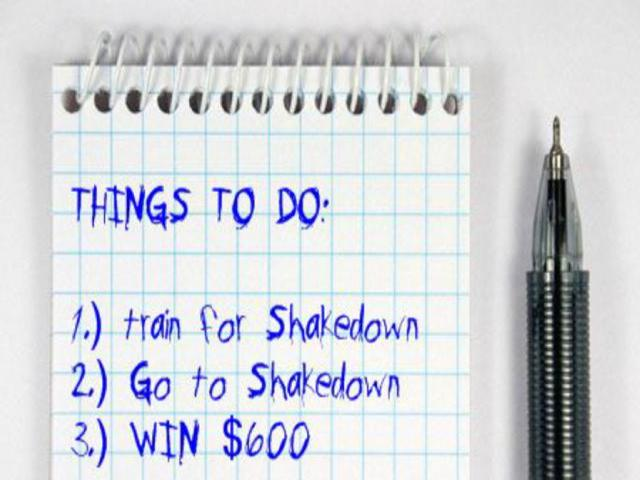PEN: (504, 107, 640, 480)
